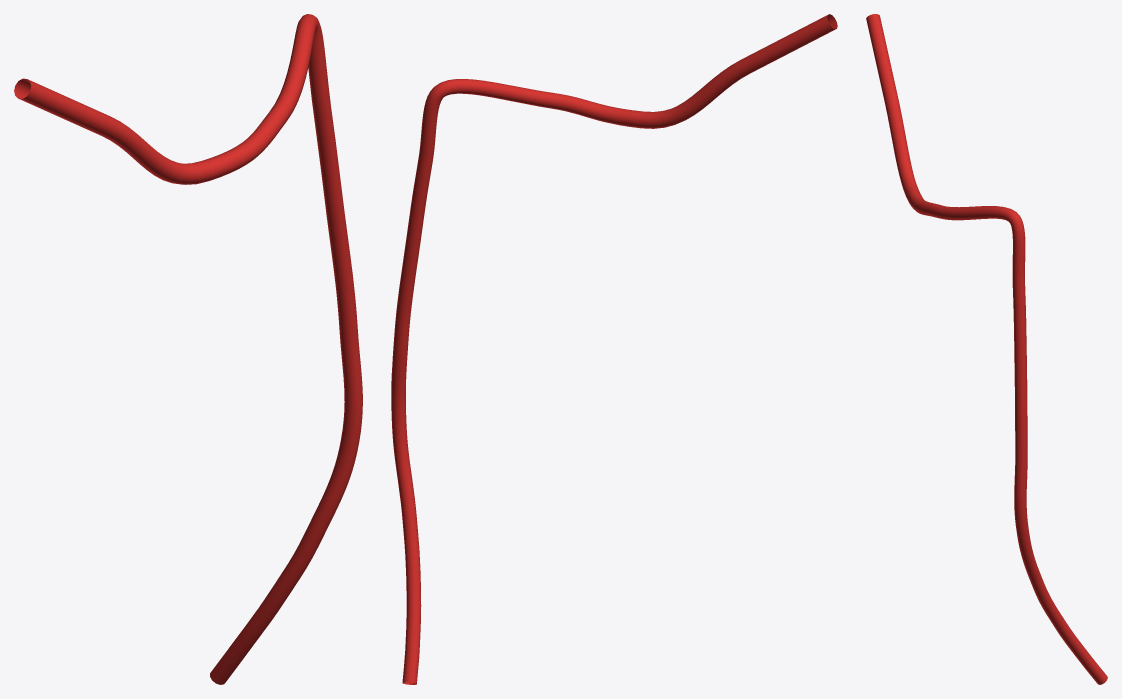
Rendered from circulatorio-posterior-ethmoidal-artery-r.glb.
3 views of the same model, side by side, from view 1: azimuth 30°, elevation 25°; view 2: azimuth 150°, elevation 25°; view 3: azimuth 270°, elevation 25° (orthographic). The views are drawn at different scales.
Parts seen in each view (by area): view 1: Septal branches of posterior ethmoidal artery.r, Posterior ethmoidal artery.r; view 2: Septal branches of posterior ethmoidal artery.r, Posterior ethmoidal artery.r; view 3: Septal branches of posterior ethmoidal artery.r, Posterior ethmoidal artery.r.
Boxes of the visible parts, x1=… form: Septal branches of posterior ethmoidal artery.r: x1=203, y1=14, x2=362, y2=684; Posterior ethmoidal artery.r: x1=14, y1=78, x2=212, y2=184; Septal branches of posterior ethmoidal artery.r: x1=391, y1=79, x2=642, y2=684; Posterior ethmoidal artery.r: x1=639, y1=14, x2=837, y2=128; Septal branches of posterior ethmoidal artery.r: x1=905, y1=185, x2=1107, y2=684; Posterior ethmoidal artery.r: x1=866, y1=14, x2=917, y2=193.
Bounding box in the file's own units: 0.017 × 0.0292 × 0.0116.
